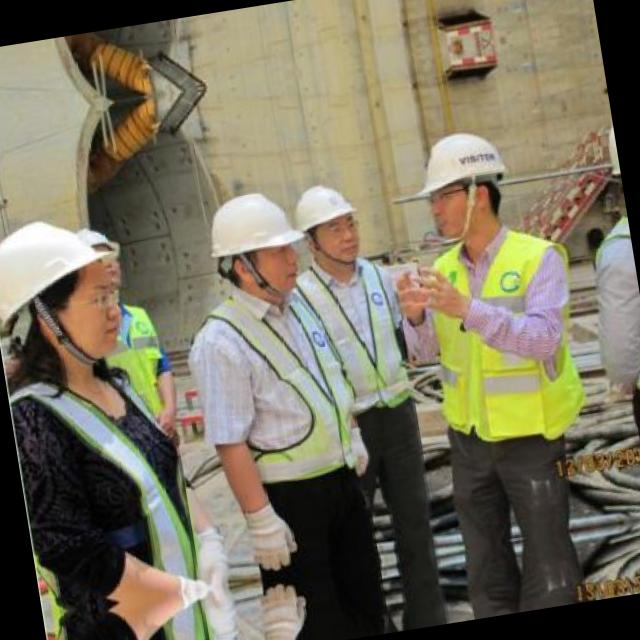helmet: (0, 197, 145, 383), (197, 179, 310, 310), (412, 120, 518, 246), (280, 174, 370, 274), (75, 216, 130, 293)
